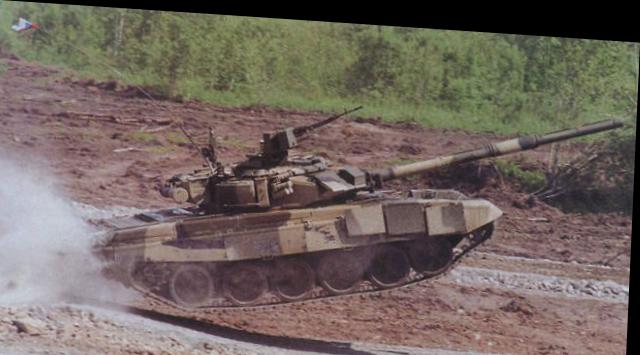tank: (93, 112, 499, 310)
